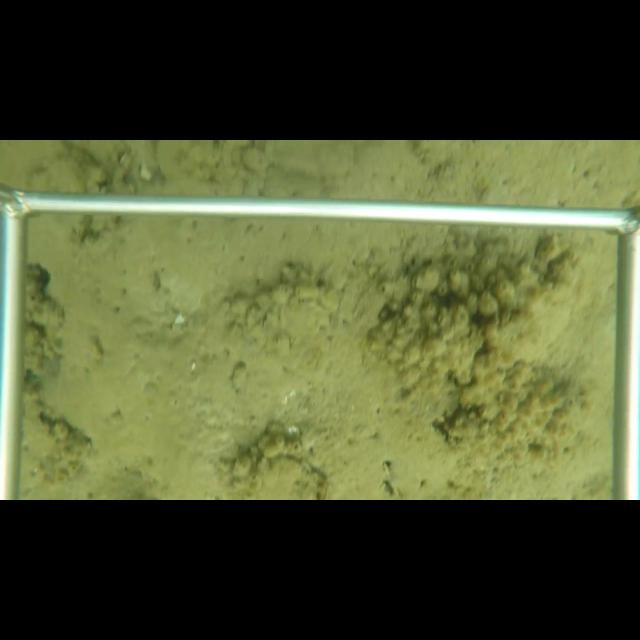Oyster-Closed: (245, 453, 324, 499)
